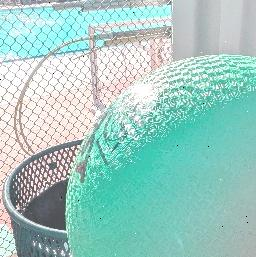algae: (75, 60, 256, 257)
